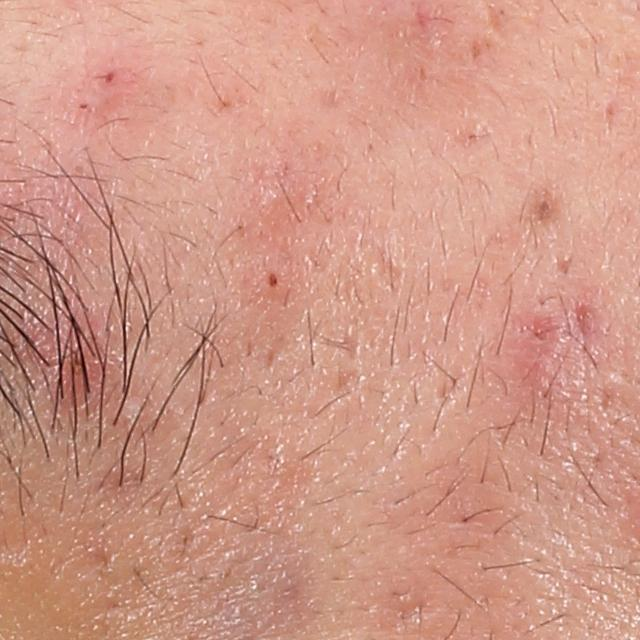atrophic_scar: (551, 250, 578, 279)
comedo: (527, 193, 555, 218), (261, 269, 282, 291)
